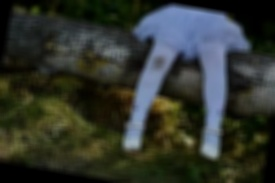earth: (153, 55, 165, 72)
